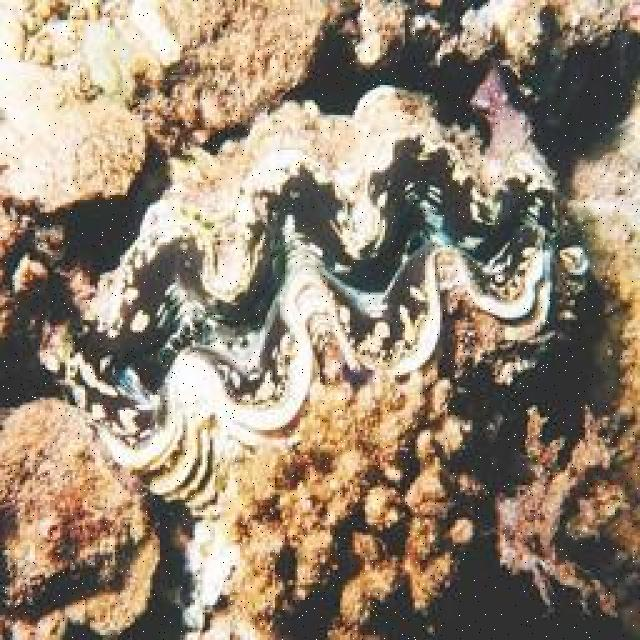reefs: (40, 84, 590, 521)
